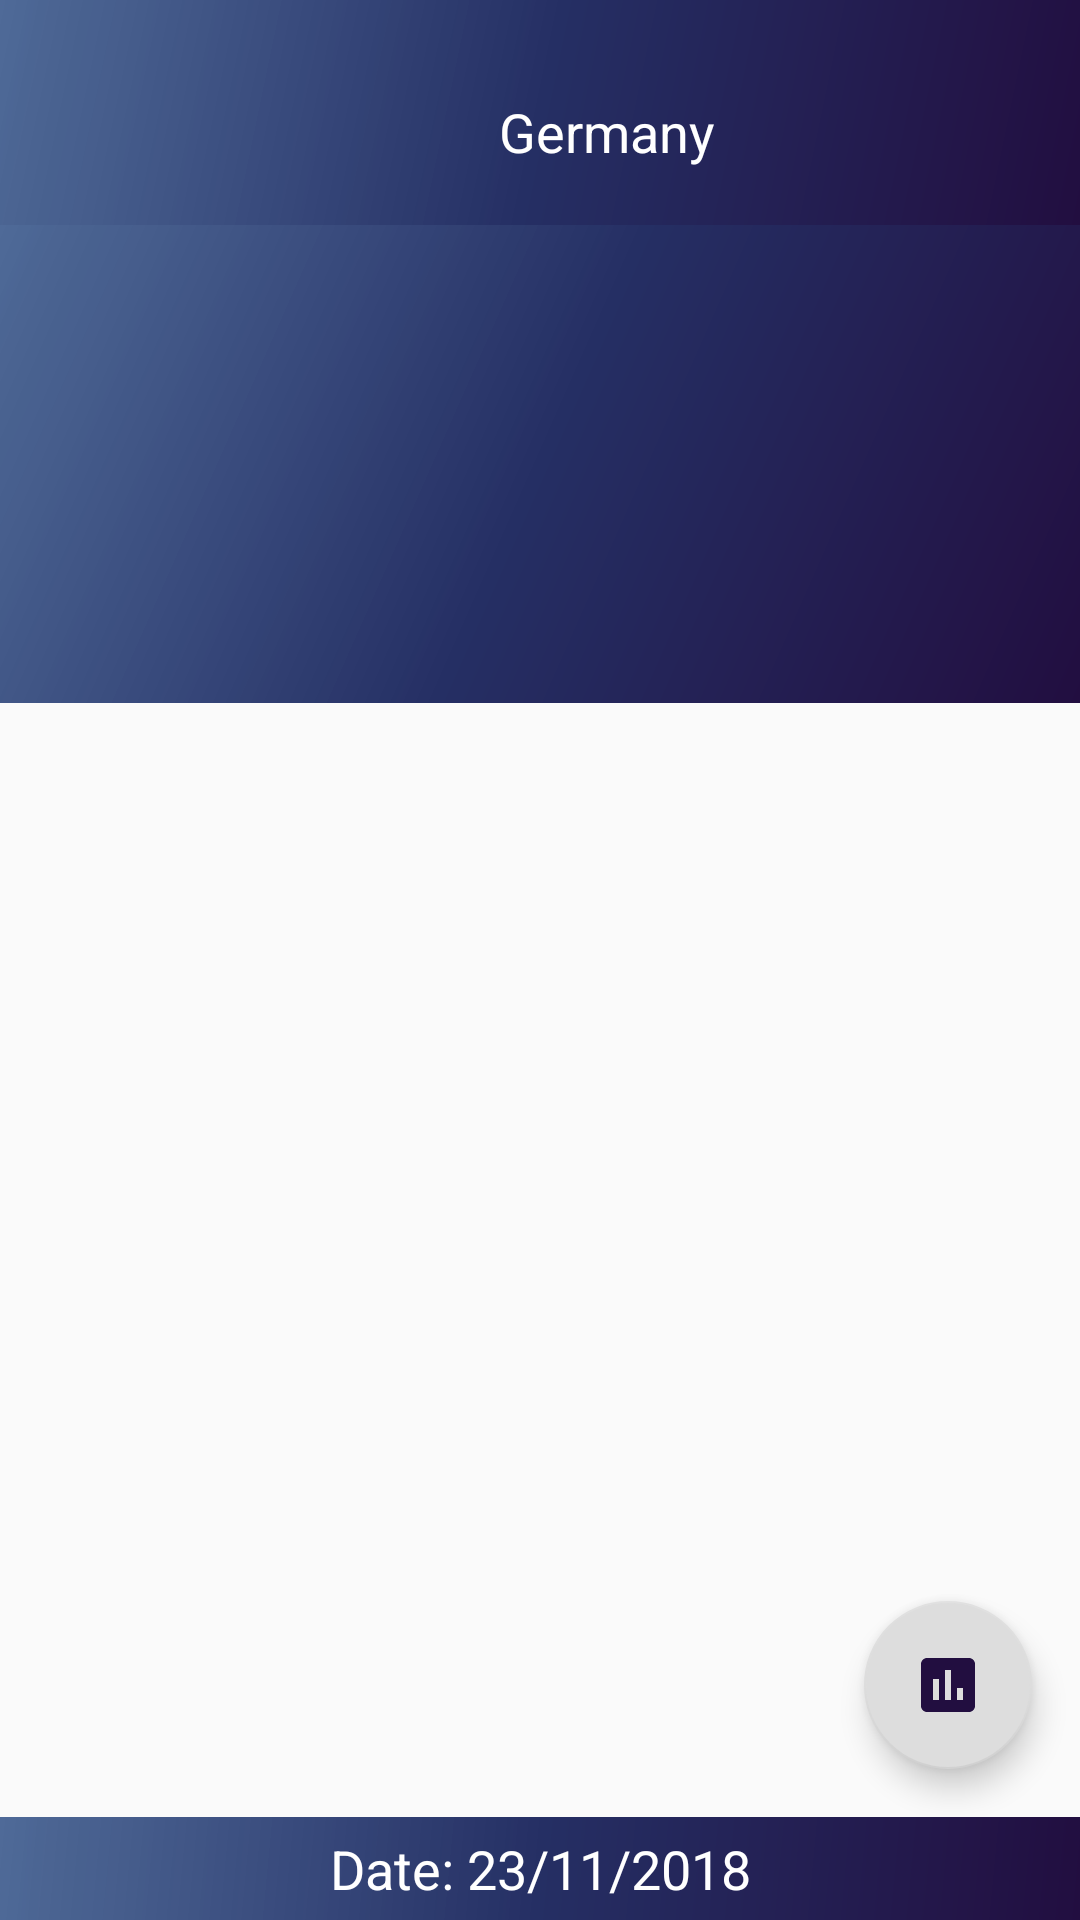

Named icons in this screenshot (1080 x 1920) and their bounding boxes, (x1, y1, x2, y2):
insert chart: (864, 1602, 1032, 1769)
